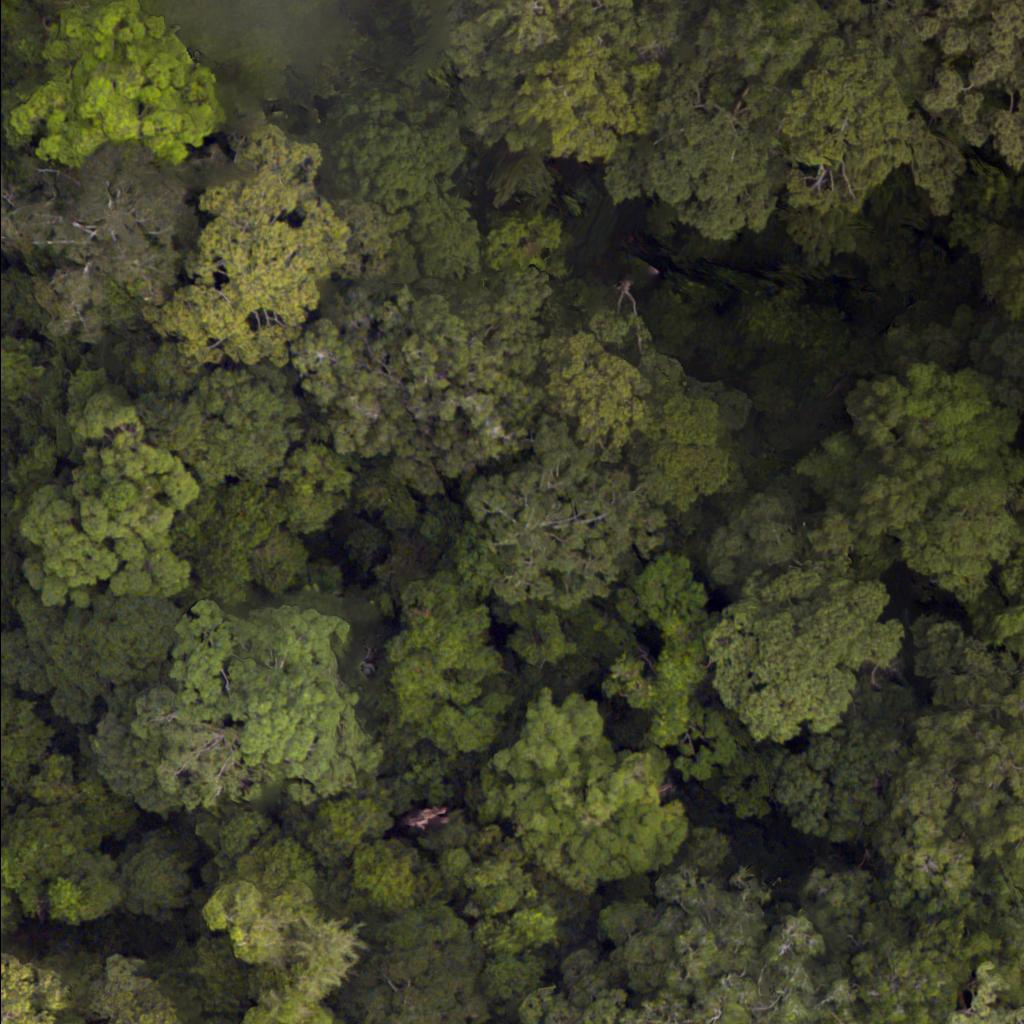crown: (297, 265, 551, 479), (702, 490, 898, 755), (121, 613, 368, 823), (857, 374, 1023, 667), (473, 678, 694, 894), (173, 160, 361, 394), (8, 0, 248, 167), (27, 391, 212, 602), (481, 420, 674, 611), (4, 170, 212, 336), (605, 56, 783, 240), (422, 0, 576, 150), (387, 581, 510, 758), (792, 63, 917, 237), (138, 372, 298, 485), (506, 36, 655, 157), (921, 0, 1023, 163), (172, 485, 309, 597), (348, 917, 480, 1023), (546, 328, 651, 444), (578, 0, 688, 60), (280, 450, 357, 535), (487, 214, 564, 281)
